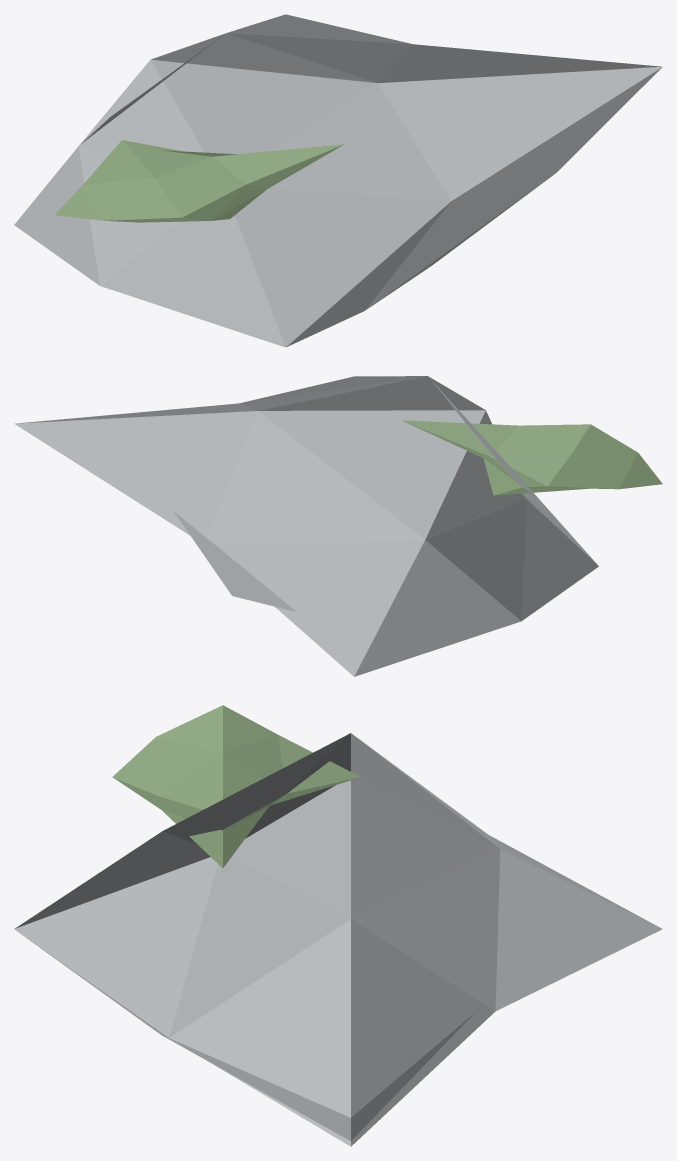
The model's file is boulder_v29.glb.
3 renders of one model, top to bottom at view 1: azimuth 30°, elevation 25°; view 2: azimuth 150°, elevation 25°; view 3: azimuth 270°, elevation 25°, orthographic. The views are drawn at different scales.
Parts seen in each view (by area): view 1: lod0; view 2: lod0; view 3: lod0.
Boxes of the visible parts, x1,y1,x2,y2 form: lod0: [14, 14, 662, 347]; lod0: [14, 376, 662, 676]; lod0: [14, 705, 662, 1146].
Size of what is drawn, in the model's own units: 3.59 by 1.72 by 2.64.
